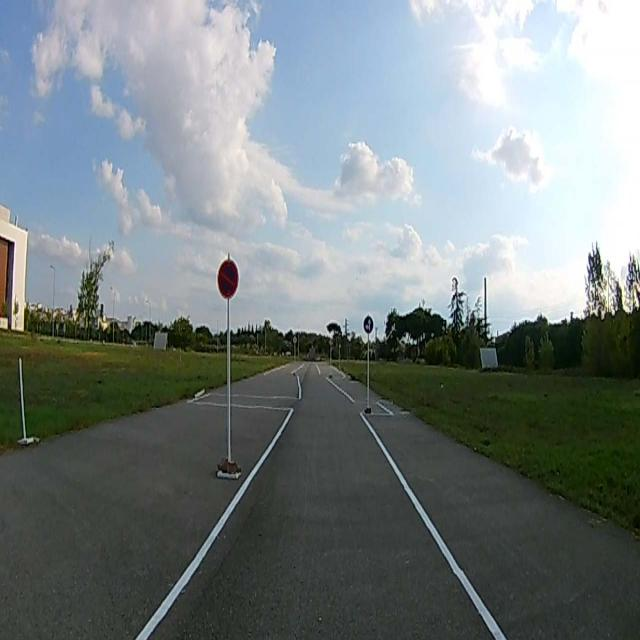parkyasak: (219, 259, 238, 297)
